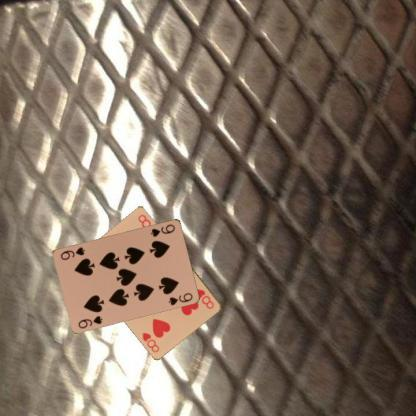8h: (194, 286, 216, 310)
9s: (148, 221, 176, 238), (76, 313, 104, 329)
